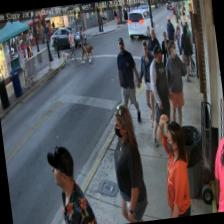person: (107, 102, 150, 224), (45, 142, 96, 224), (155, 113, 193, 218), (141, 43, 175, 148), (110, 36, 144, 125), (161, 39, 193, 128), (134, 39, 160, 127), (144, 25, 166, 102), (158, 30, 176, 94)
